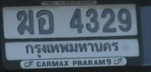txt04: (16, 9, 35, 36)
txt38: (35, 8, 56, 35)
